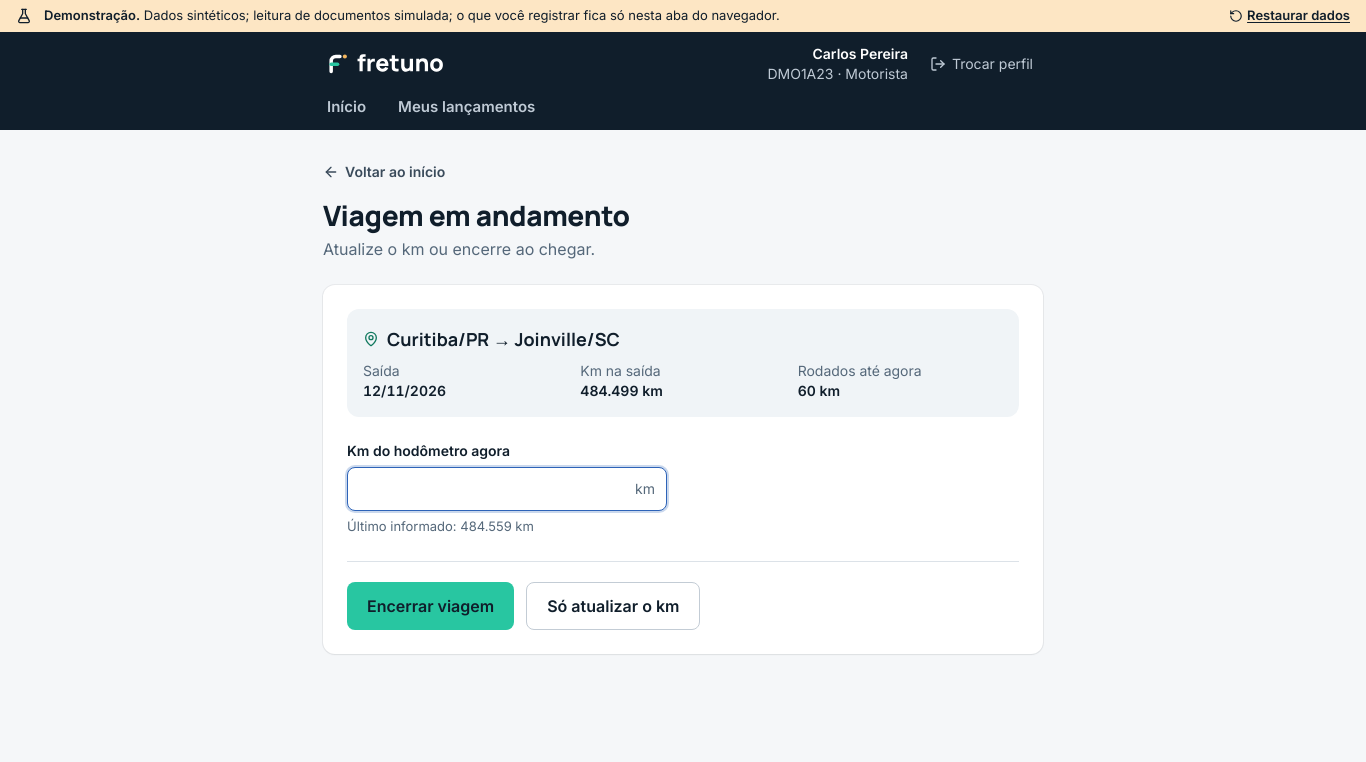
Scenario: Motorista › encerra a viagem em andamento e valida km menor que a saída
Type "10" into the field labelled "Km do hodômetro agora". click: [507, 489]
box: [347,467,667,511]
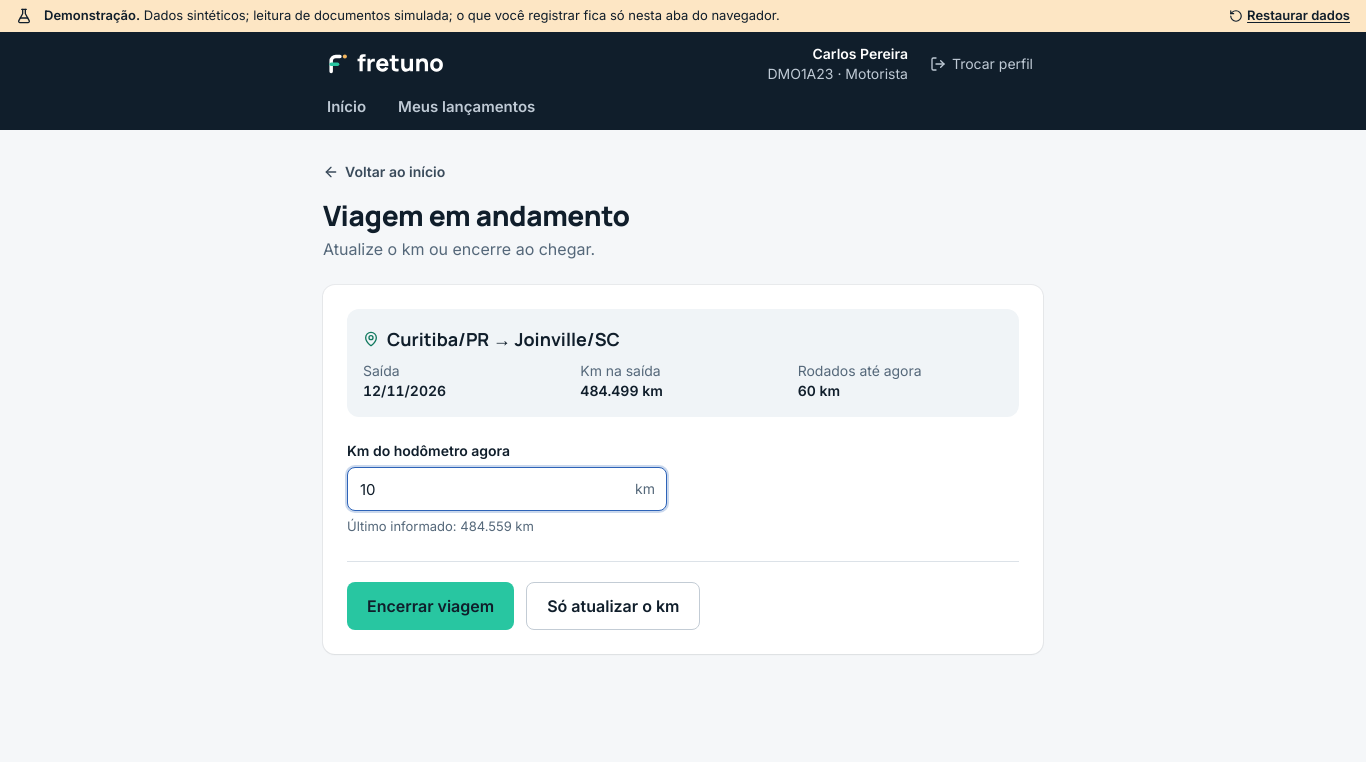
Click the button "Encerrar viagem". click: [431, 606]
box: [347,582,514,630]
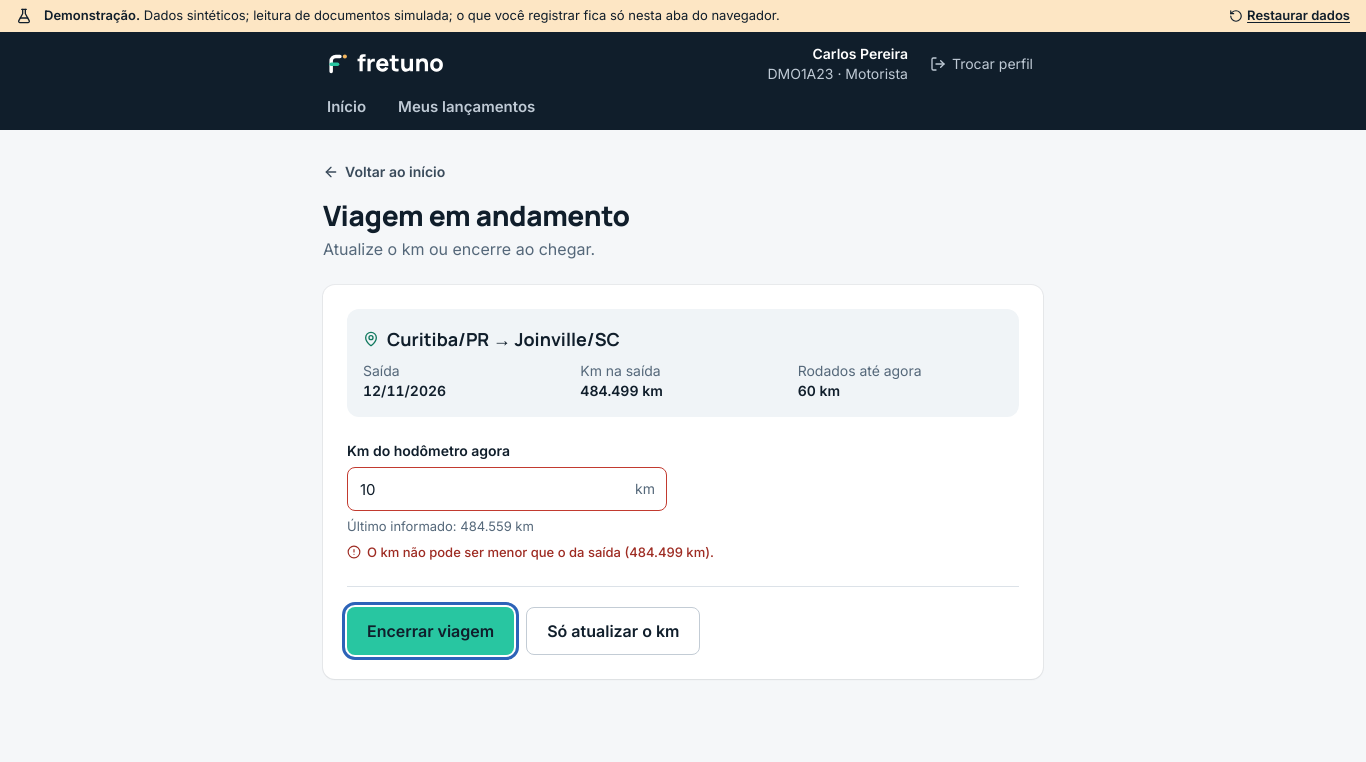
Expected: the text "O km não pode ser menor que o da saída (484.499 km)." is shown, [347,544,714,560]
Replace the text in the field labelled "Km do hodômetro agora" with "999999". click: [507, 489]
box: [347,467,667,511]
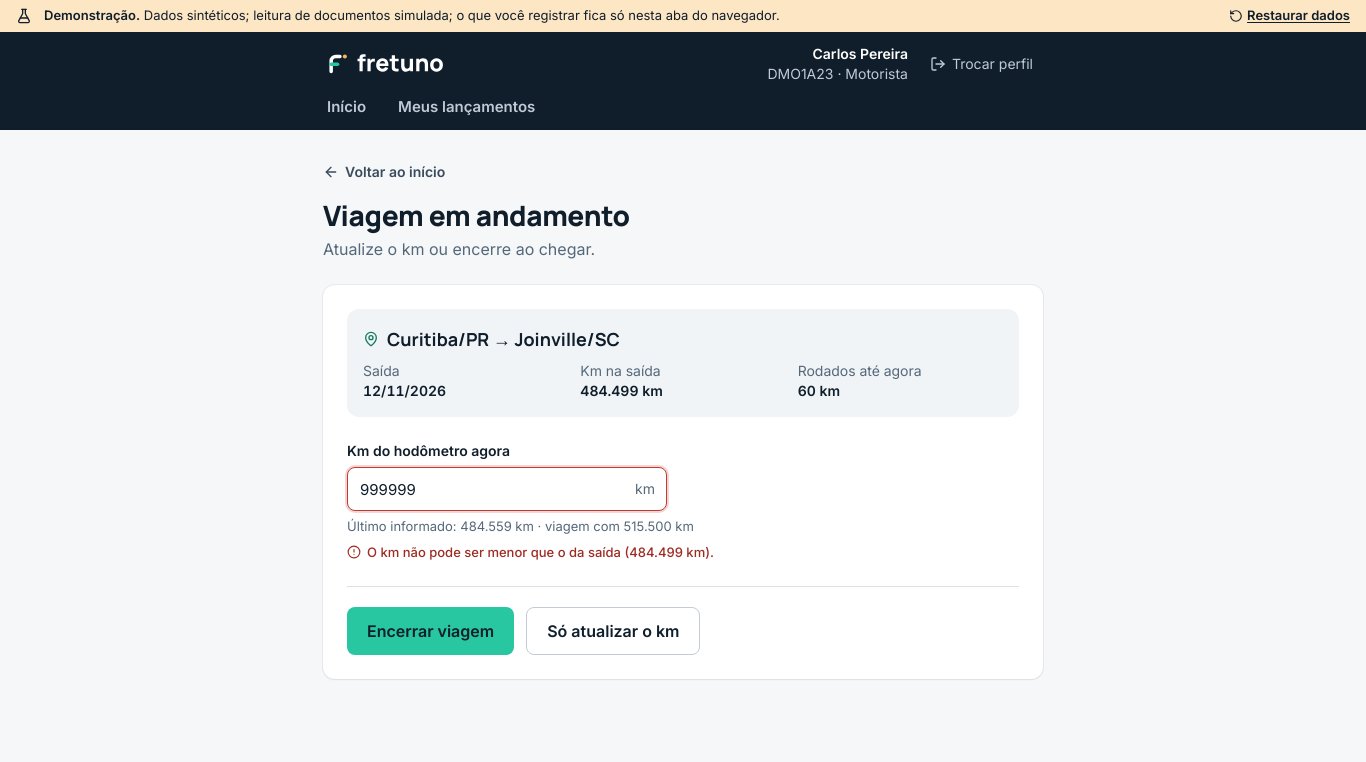
Click the button "Encerrar viagem". click: [431, 631]
box: [347,607,514,655]
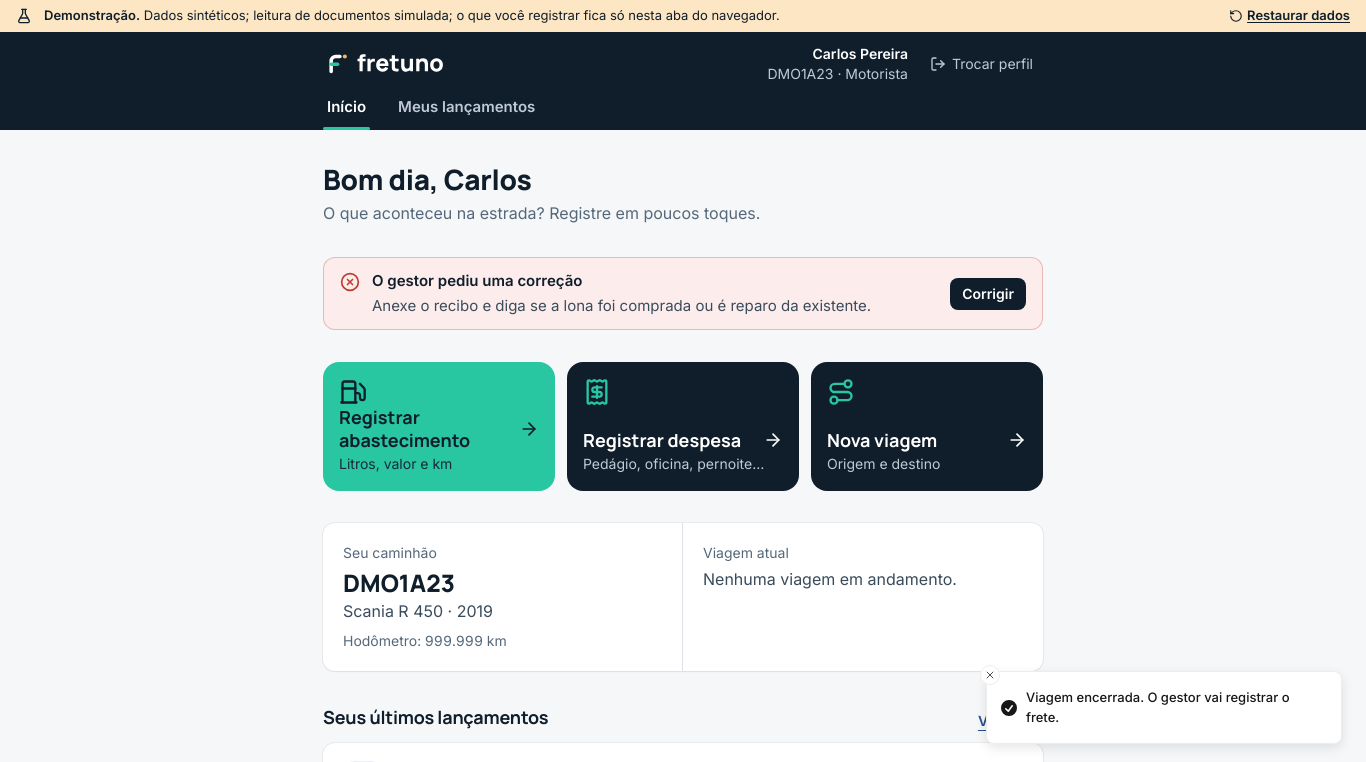
Expected: the link "Nova viagem Origem e destino" is shown, [811,362,1043,491]
